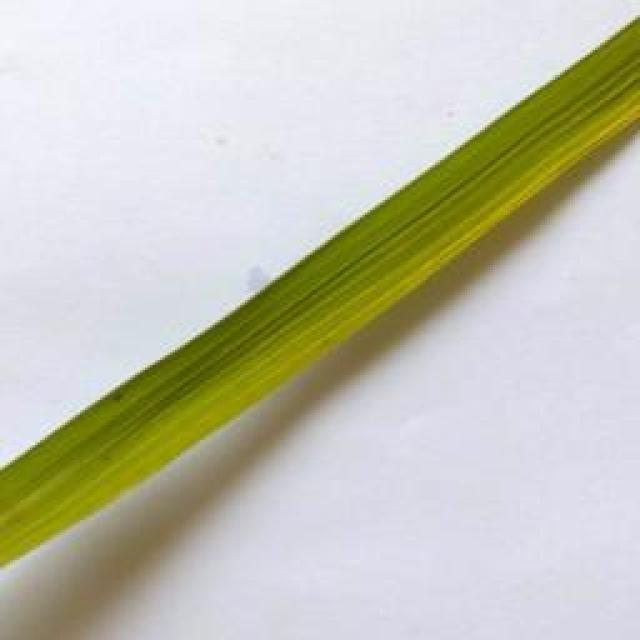Bacterial_Blight: (0, 6, 640, 579)
